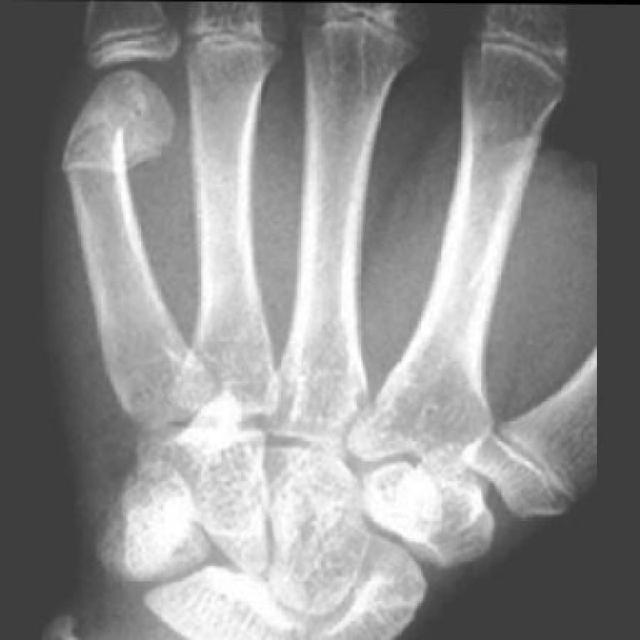Fracture: (54, 88, 159, 186)
